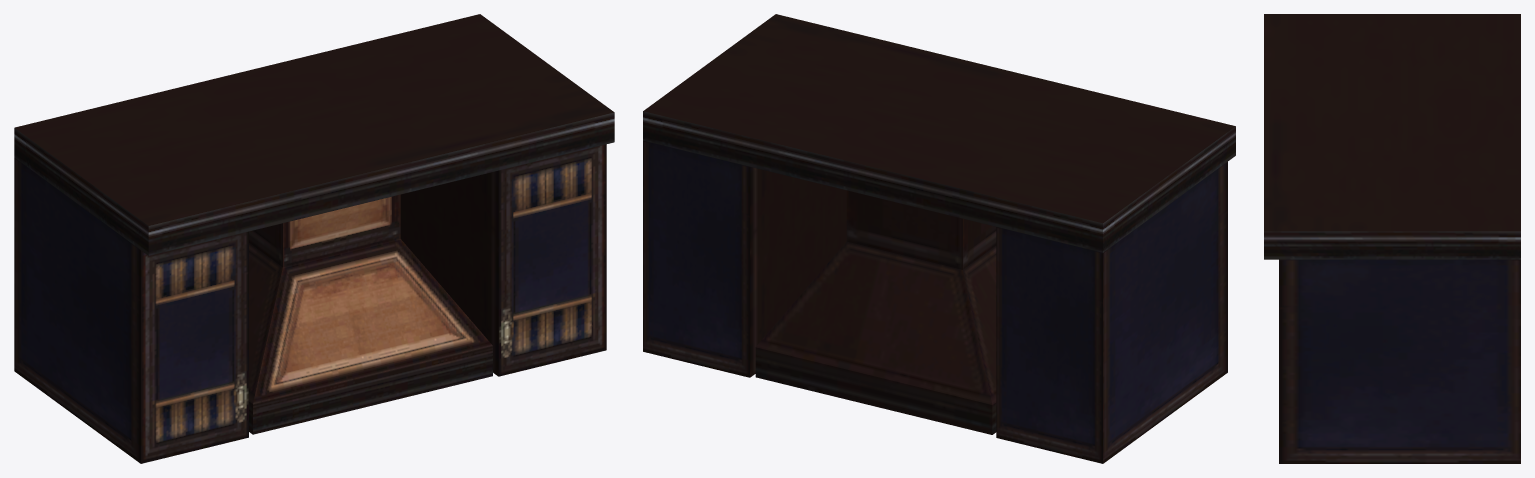
File: furni_0201223.FBX
3 views of the same model, side by side, from view 1: azimuth 30°, elevation 25°; view 2: azimuth 150°, elevation 25°; view 3: azimuth 270°, elevation 25° (orthographic). The views are drawn at different scales.
Visible parts, largest first — view 1: furni_0201223; view 2: furni_0201223; view 3: furni_0201223.
Part boxes in pixels (x1,y1,x2,y2): furni_0201223: [14, 14, 614, 463]; furni_0201223: [643, 14, 1235, 463]; furni_0201223: [1264, 14, 1520, 463].
Size of the model in its own units: 160 by 80.03 by 80.
Materials: 1 (1 with a texture image).
